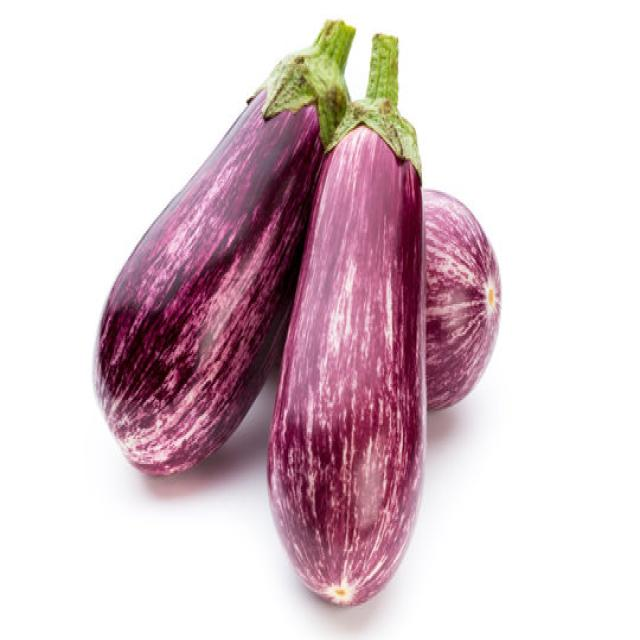Eggplant: (91, 16, 356, 476), (266, 29, 427, 606), (421, 185, 501, 411)
